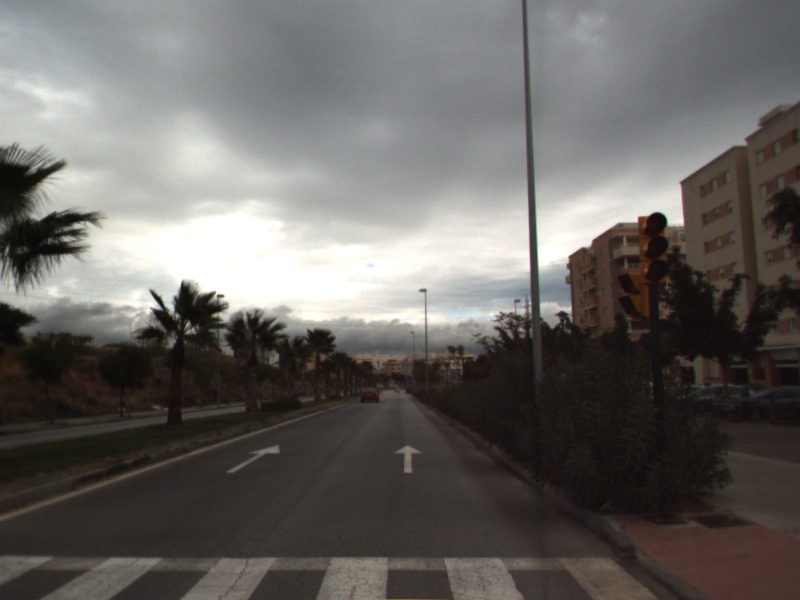STRAIGHT: (225, 443, 282, 475), (393, 442, 424, 475)
